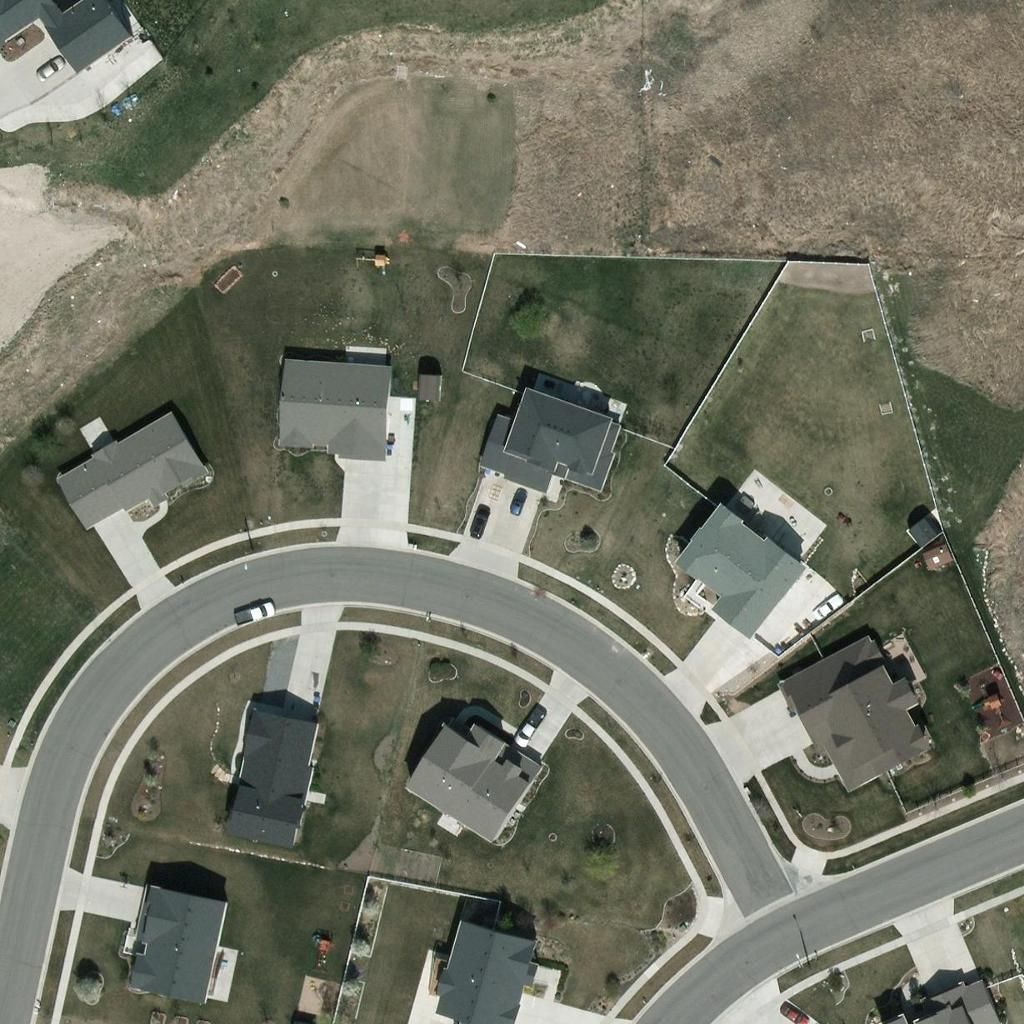car: (30, 52, 64, 86), (501, 486, 535, 520), (461, 504, 495, 538), (809, 591, 843, 625), (238, 597, 272, 631), (508, 714, 542, 748), (774, 996, 808, 1024)
